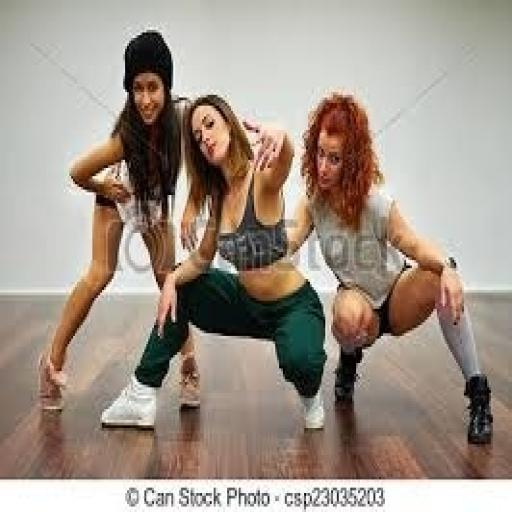dancing: (98, 90, 327, 436), (283, 89, 495, 447)
